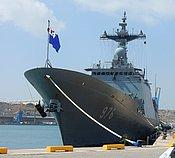MIL_Ship: (23, 9, 160, 144)
